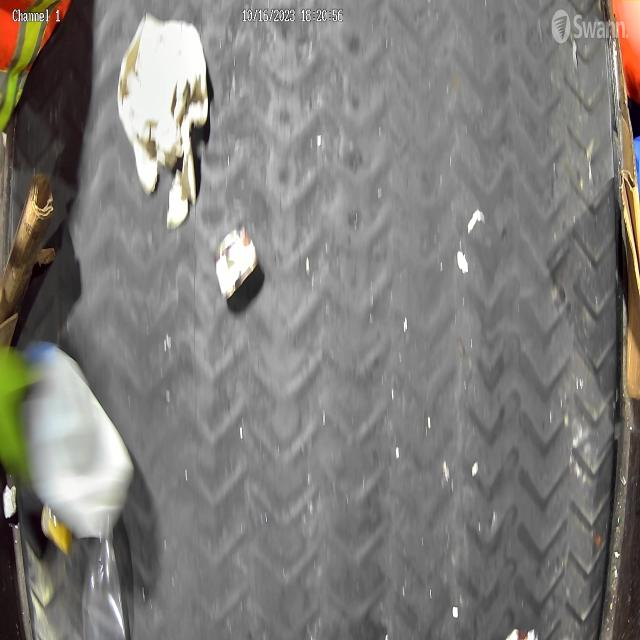can: (214, 227, 258, 300)
milk_jug: (25, 338, 135, 537)
